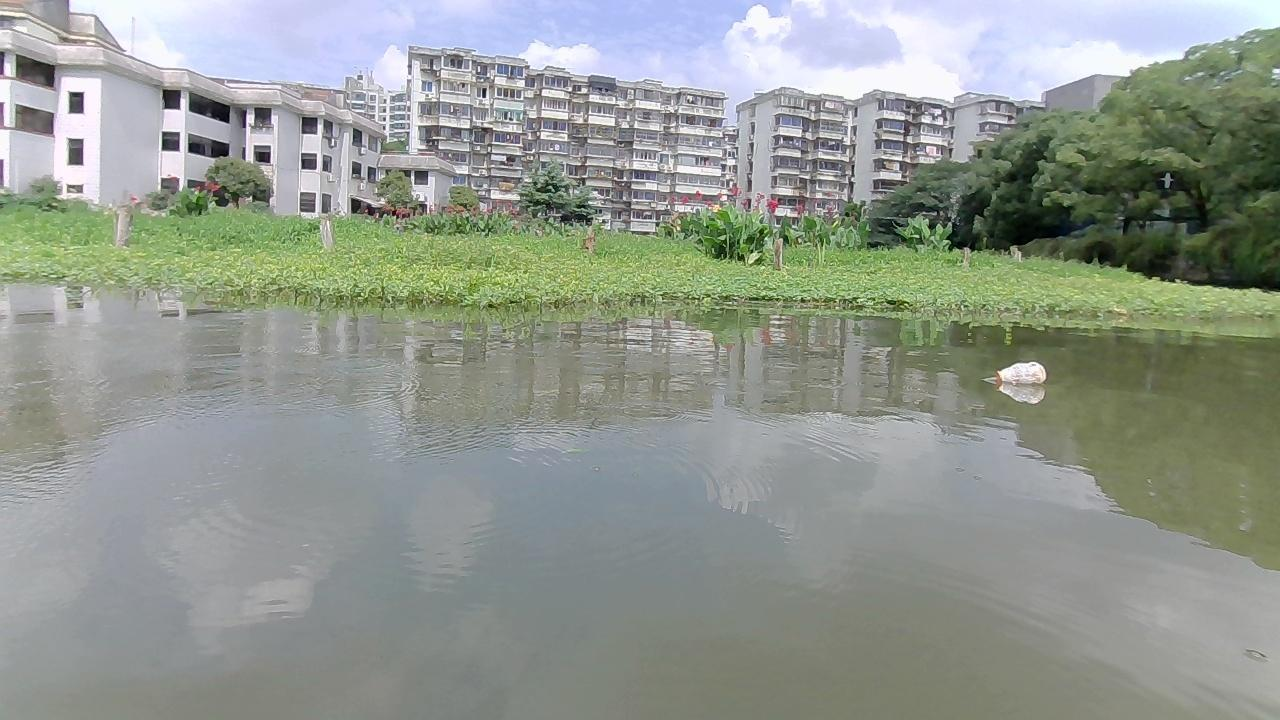bottle: (992, 359, 1047, 382)
